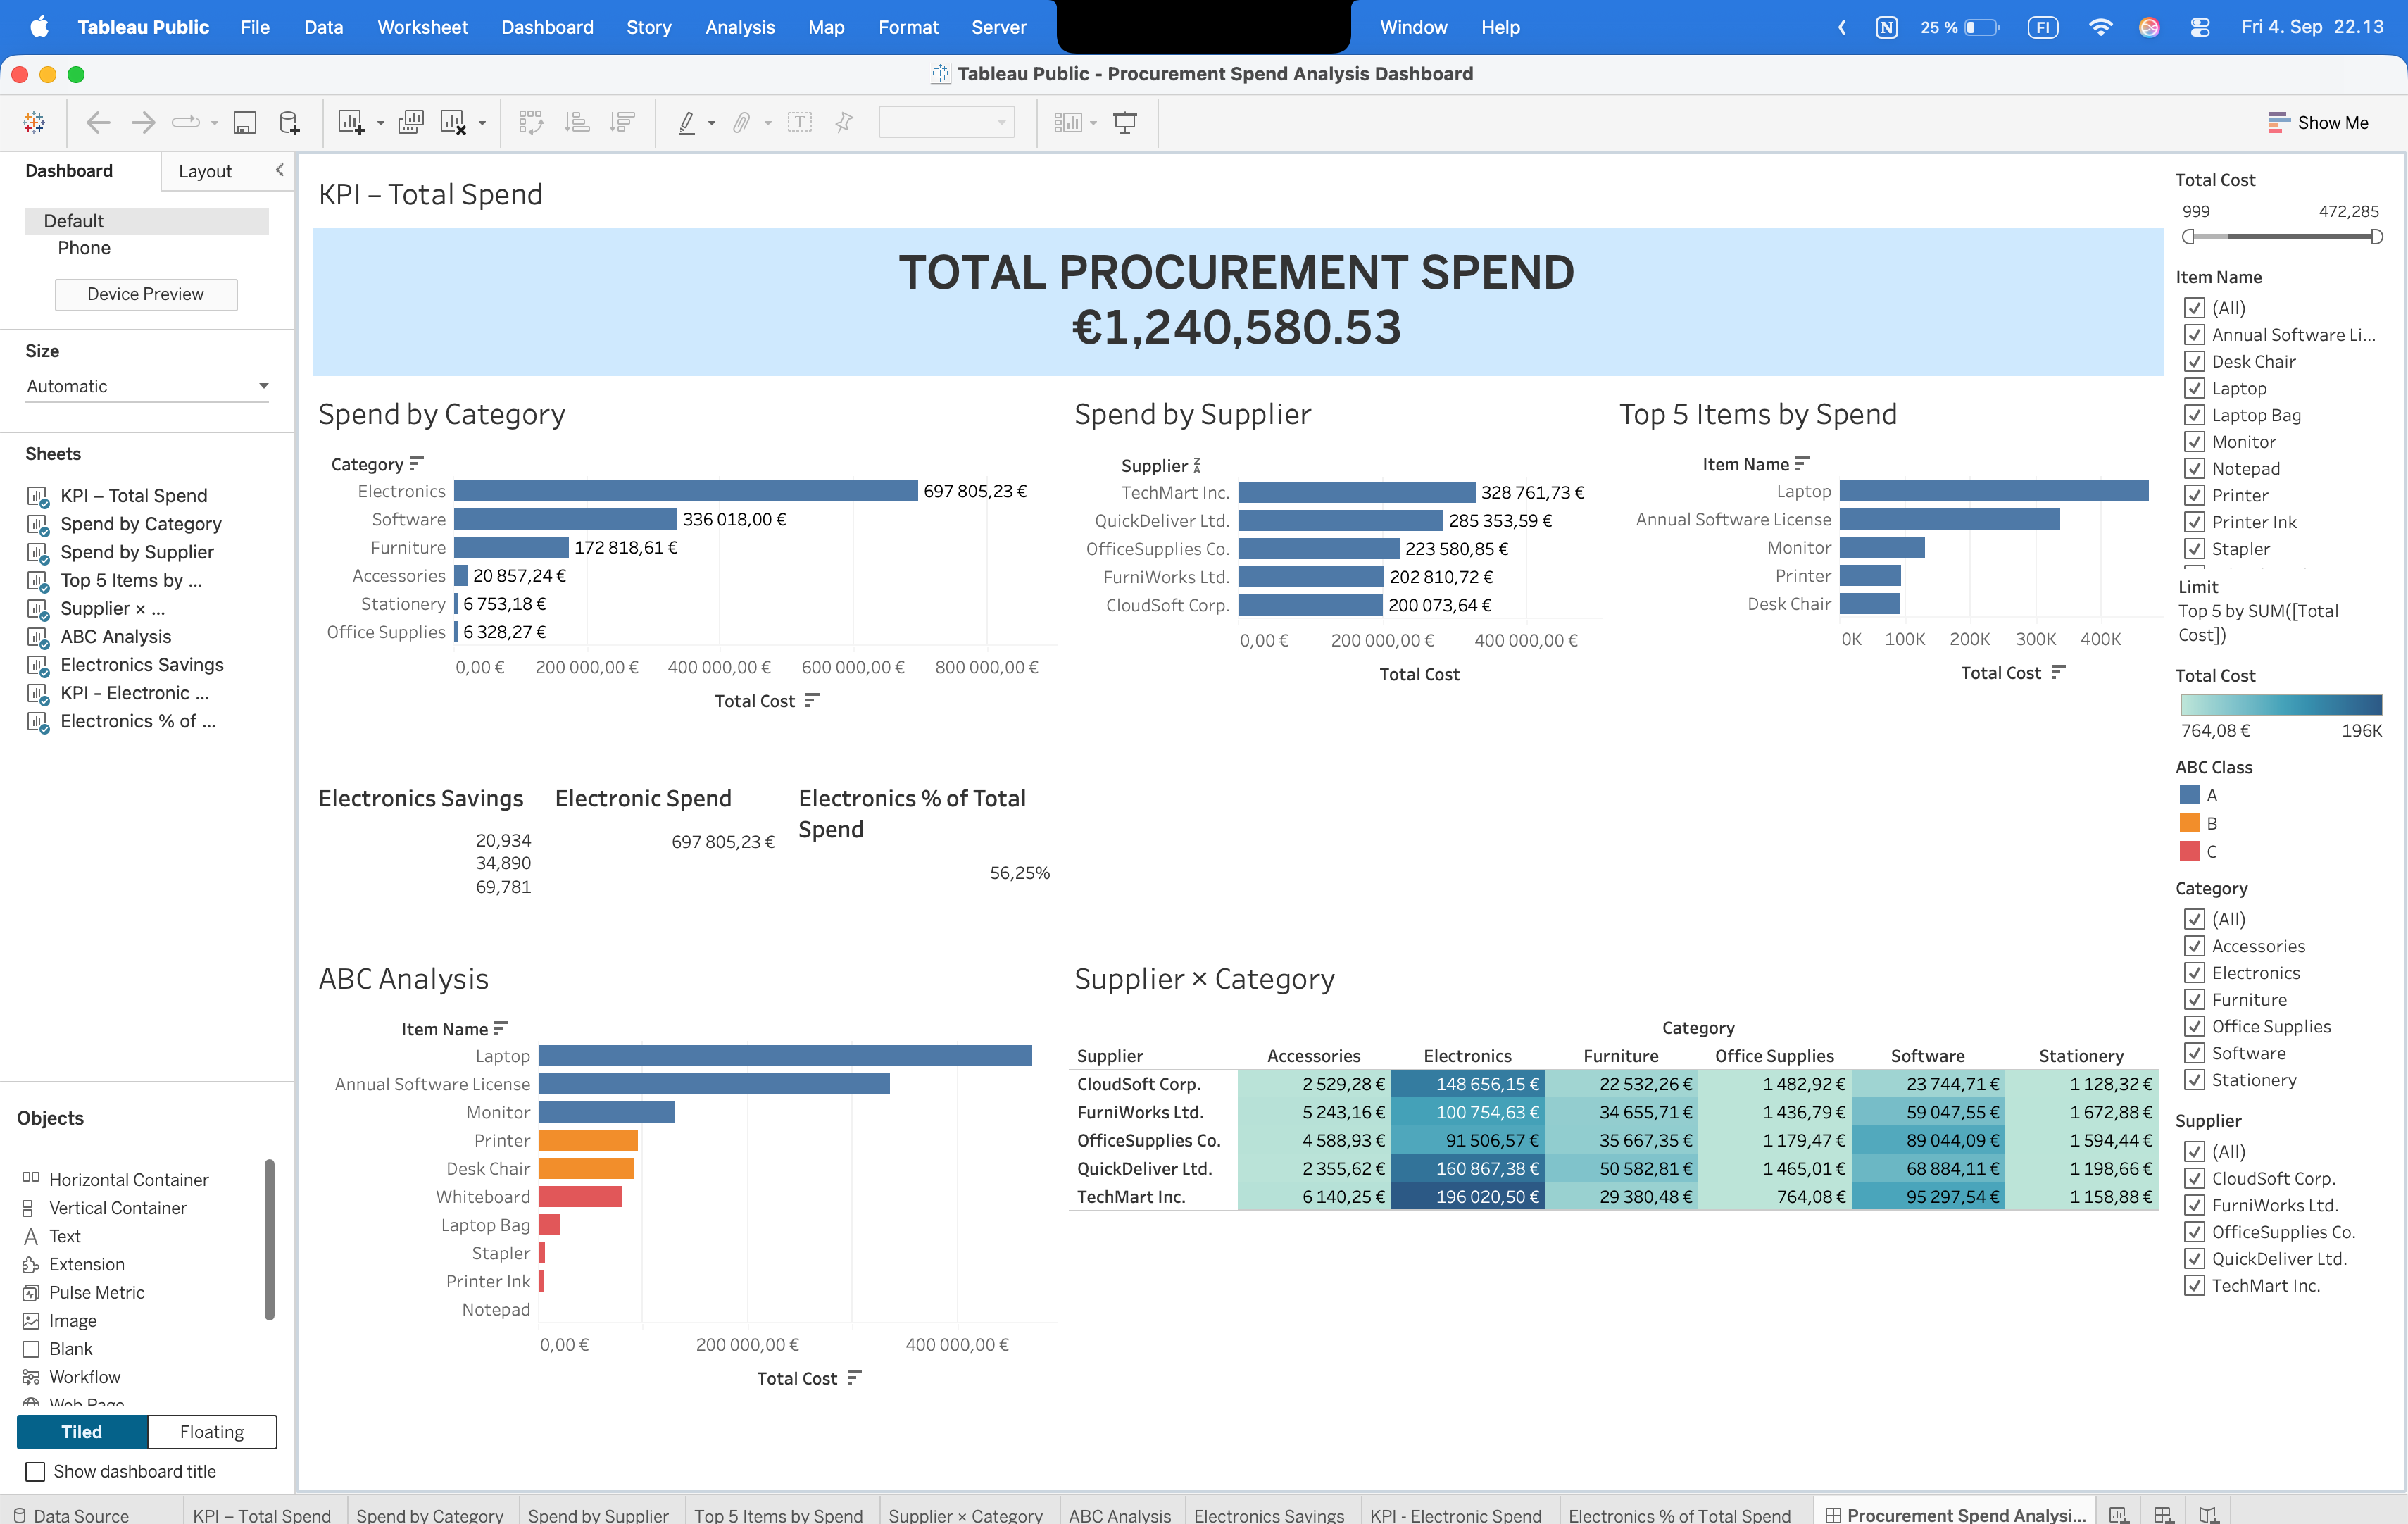

The page's visual inventory and layout, read from the dashboard file:
{"tool":"tableau","page":{"name":"Procurement Spend Analysis Dashboard","canvas":[1000,1000],"units":"permille","ordinal":0},"visuals":[{"type":"worksheet","title":"KPI – Total Spend","mark":"Automatic","box":[5.3,8.4,882.6,163.9]},{"type":"filter","title":"Top 5 Items by Spend","param":"[federated.19sqzme0qzszxr14p3tj41bwsflw].[sum:TotalCost:qk]","box":[887.9,8.4,106.7,72.4]},{"type":"filter","title":"Top 5 Items by Spend","param":"[federated.19sqzme0qzszxr14p3tj41bwsflw].[none:ItemName:nk]","box":[887.9,80.8,106.7,296.9]},{"type":"worksheet","title":"Spend by Category","mark":"Automatic","rows":["Category"],"cols":["TotalCost"],"box":[5.3,172.3,358.2,289.4]},{"type":"worksheet","title":"Spend by Supplier","mark":"Automatic","rows":["Supplier"],"cols":["TotalCost"],"box":[363.6,172.3,258.2,420.6]},{"type":"worksheet","title":"Top 5 Items by Spend","mark":"Automatic","rows":["ItemName"],"cols":["TotalCost"],"box":[621.8,172.3,266.2,420.6]},{"type":"legend","title":"Supplier × Category","param":"[federated.19sqzme0qzszxr14p3tj41bwsflw].[sum:TotalCost:qk]","box":[887.9,377.7,106.7,68.2]},{"type":"legend","title":"ABC Analysis","param":"[federated.19sqzme0qzszxr14p3tj41bwsflw].[usr:Calculation_0150399174758400:nk:1]","box":[887.9,445.9,106.7,90.2]},{"type":"worksheet","title":"Electronics Savings","mark":"Automatic","box":[5.3,461.7,112.1,131.2]},{"type":"worksheet","title":"KPI - Electronic Spend","mark":"Automatic","box":[117.4,461.7,115.4,131.2]},{"type":"worksheet","title":"Electronics % of Total Spend","mark":"Automatic","box":[232.8,461.7,130.8,131.2]},{"type":"filter","title":"Spend by Category","param":"[federated.19sqzme0qzszxr14p3tj41bwsflw].[none:Category:nk]","box":[887.9,536.2,106.7,173.1]},{"type":"worksheet","title":"ABC Analysis","mark":"Automatic","rows":["ItemName"],"cols":["TotalCost"],"box":[5.3,592.9,358.1,398.8]},{"type":"worksheet","title":"Supplier × Category","mark":"Square","rows":["Supplier"],"cols":["Category"],"box":[363.4,592.9,524.5,398.8]},{"type":"filter","title":"Spend by Supplier","param":"[federated.19sqzme0qzszxr14p3tj41bwsflw].[none:Supplier:nk]","box":[887.9,709.3,106.7,153.2]}]}

Visuals, with their boxes on the dashboard's canvas, which has no fixed pixel size, in thousandths of its width and height (x1, y1, x2, y2). These are canvas units, not pixel positions in the 2408x1524 screenshot, which may show the page scaled, cropped or inside an application window:
"KPI – Total Spend" worksheet: 5 8 888 172
"Top 5 Items by Spend" filter: 888 8 995 81
"Top 5 Items by Spend" filter: 888 81 995 378
"Spend by Category" worksheet: 5 172 364 462
"Spend by Supplier" worksheet: 364 172 622 593
"Top 5 Items by Spend" worksheet: 622 172 888 593
"Supplier × Category" legend: 888 378 995 446
"ABC Analysis" legend: 888 446 995 536
"Electronics Savings" worksheet: 5 462 117 593
"KPI - Electronic Spend" worksheet: 117 462 233 593
"Electronics % of Total Spend" worksheet: 233 462 364 593
"Spend by Category" filter: 888 536 995 709
"ABC Analysis" worksheet: 5 593 363 992
"Supplier × Category" worksheet (Square marks): 363 593 888 992
"Spend by Supplier" filter: 888 709 995 862
